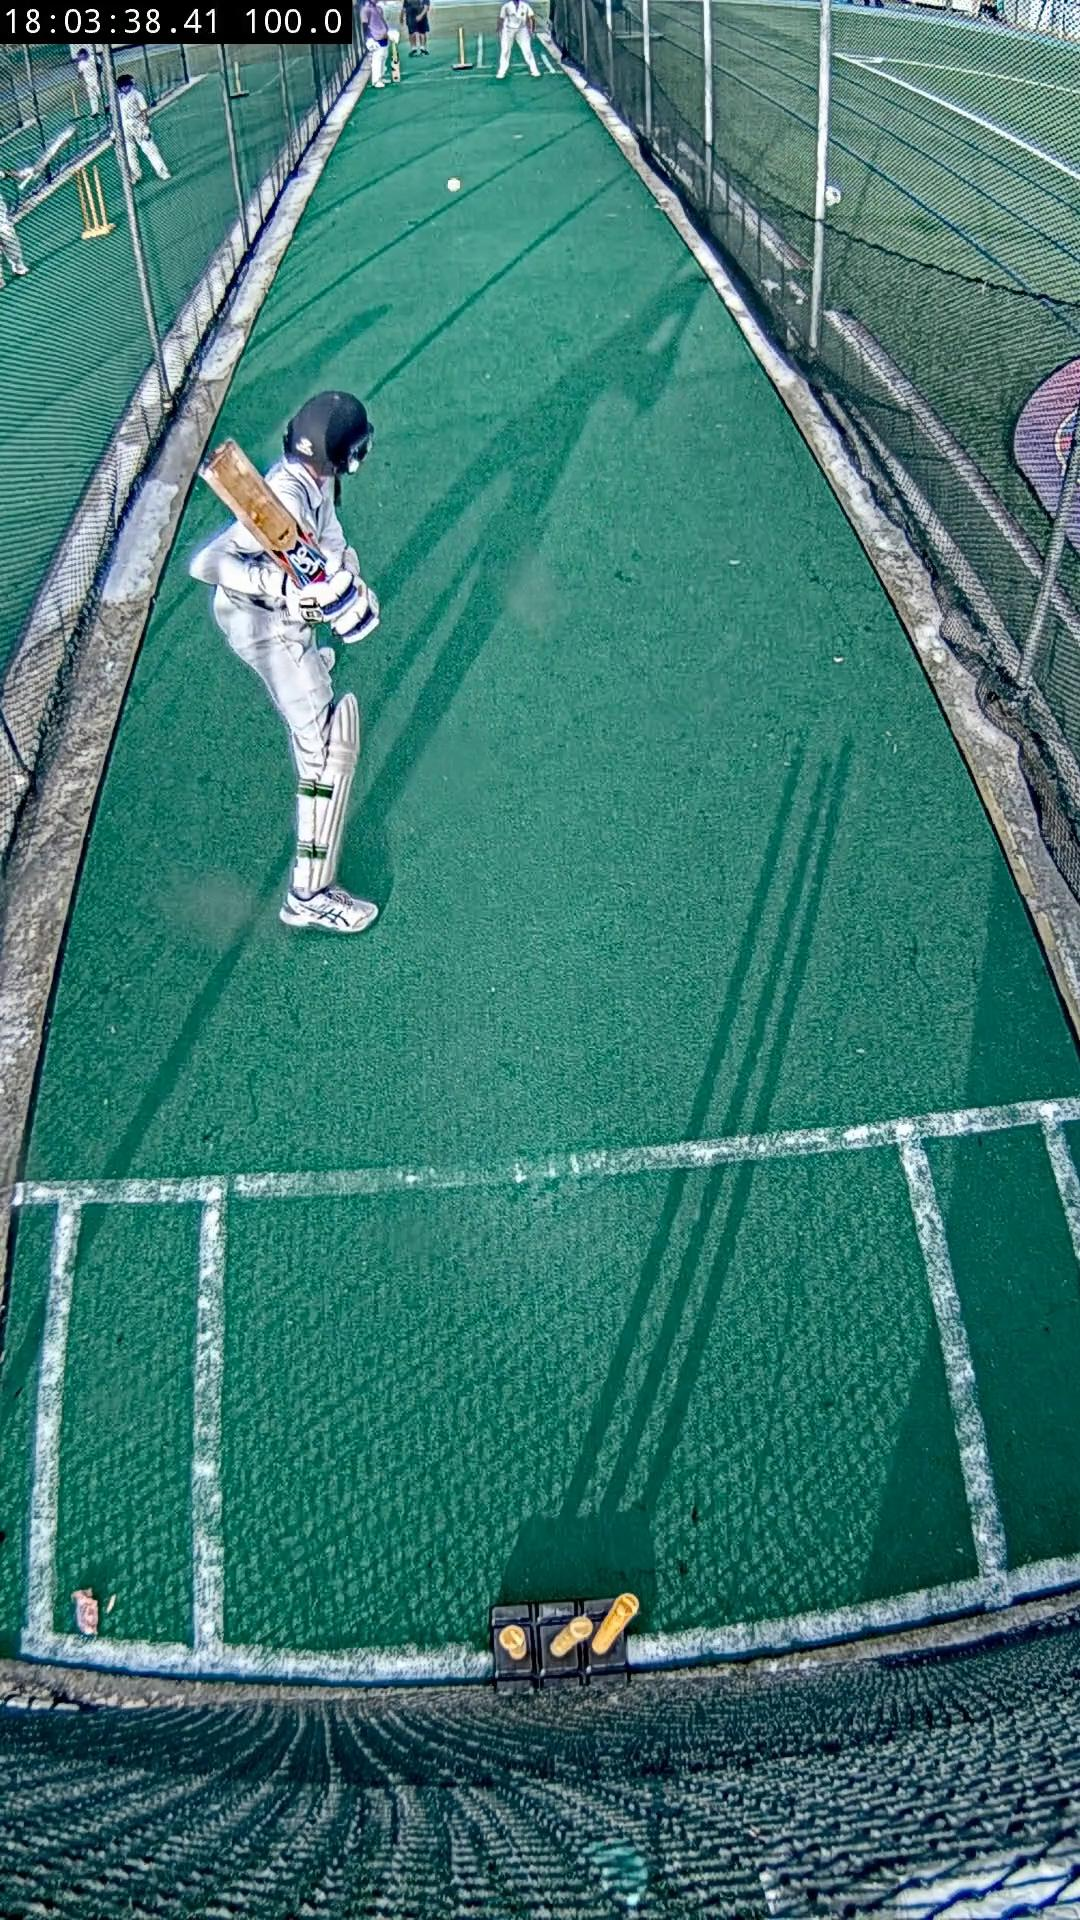ball: (446, 177, 462, 191)
bat: (199, 439, 323, 592)
gloves: (281, 574, 375, 653)
helmet: (285, 397, 372, 484)
pads: (301, 702, 368, 899)
stumps: (492, 1594, 641, 1692)
